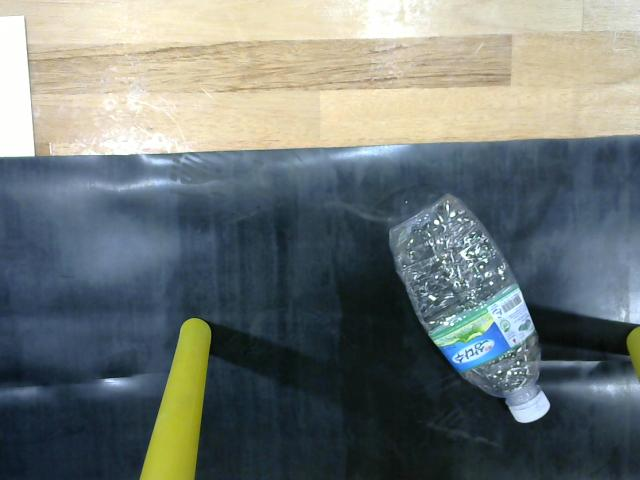bottle: (381, 186, 559, 434)
